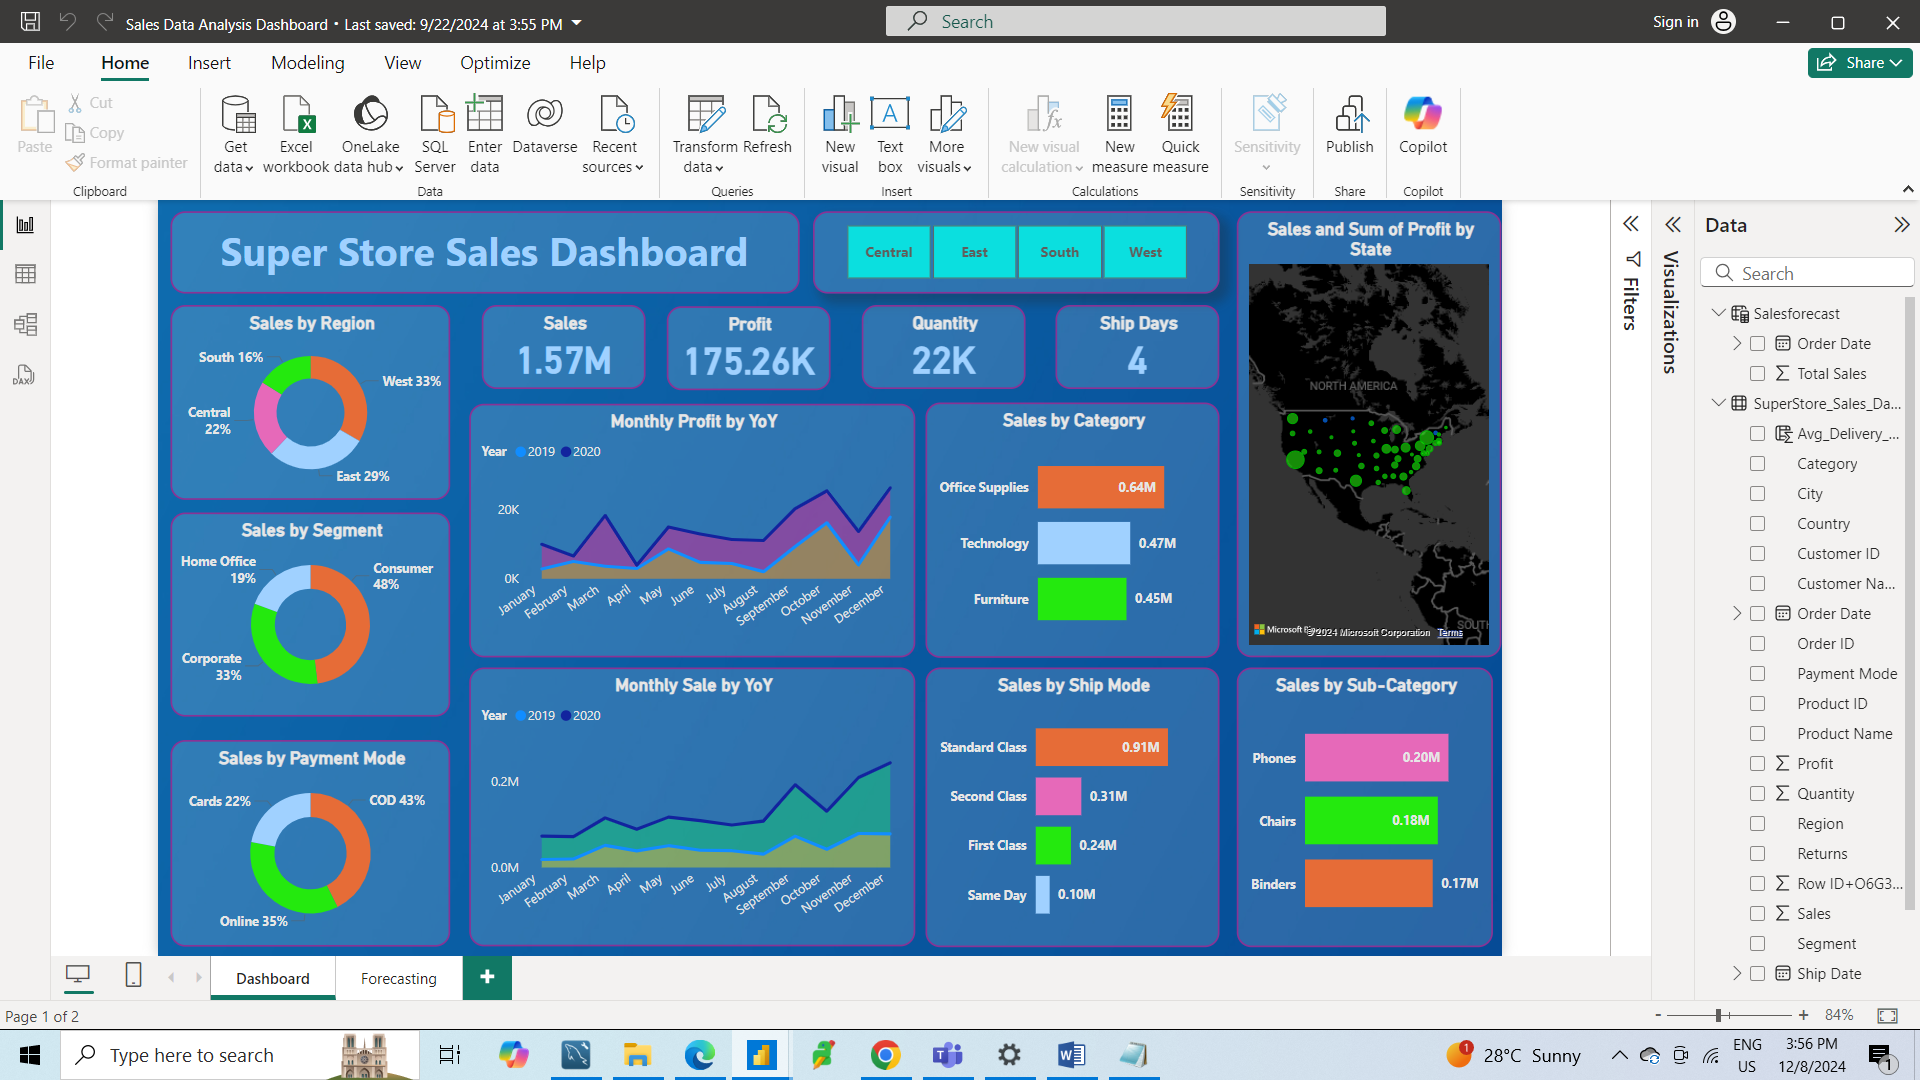

The dashboard page shown, as its layout file describes it:
{"tool":"powerbi","page":{"name":"Dashboard","canvas":[1280,720],"ordinal":0},"visuals":[{"type":"clusteredBarChart","title":"Sales by Category","fields":{"Category":["SuperStore_Sales_Dataset.Category"],"Y":["Sum(SuperStore_Sales_Dataset.Sales)"]},"box":[731,192.9,279.8,242.9],"z":0},{"type":"clusteredBarChart","title":"Sales by Ship Mode","fields":{"Category":["SuperStore_Sales_Dataset.Ship Mode","SuperStore_Sales_Dataset.Category"],"Y":["Sum(SuperStore_Sales_Dataset.Sales)"]},"box":[731,445.2,279.8,266.7],"z":1000},{"type":"clusteredBarChart","title":"Sales by Sub-Category","fields":{"Category":["SuperStore_Sales_Dataset.Sub-Category"],"Y":["Sum(SuperStore_Sales_Dataset.Sales)"]},"box":[1027.4,445.2,244,266.7],"z":2000},{"type":"stackedAreaChart","title":"Monthly Sale by YoY","fields":{"Y":["Sum(SuperStore_Sales_Dataset.Sales)"],"Category":["SuperStore_Sales_Dataset.Order Date.Variation.Date Hierarchy.Month"],"Series":["SuperStore_Sales_Dataset.Order Date.Variation.Date Hierarchy.Year"]},"box":[296.4,445.2,425,265.5],"z":3000},{"type":"stackedAreaChart","title":"Monthly Profit by YoY","fields":{"Y":["Sum(SuperStore_Sales_Dataset.Profit)"],"Category":["SuperStore_Sales_Dataset.Order Date.Variation.Date Hierarchy.Month"],"Series":["SuperStore_Sales_Dataset.Order Date.Variation.Date Hierarchy.Year"]},"box":[296.4,194,425,241.7],"z":4000},{"type":"map","title":"Sales and Sum of Profit by State","fields":{"Category":["SuperStore_Sales_Dataset.State"],"Size":["Sum(SuperStore_Sales_Dataset.Sales)"]},"box":[1027.4,10.7,252.4,425],"z":5000},{"type":"donutChart","title":"Sales by Segment","fields":{"Category":["SuperStore_Sales_Dataset.Segment"],"Y":["Sum(SuperStore_Sales_Dataset.Sales)"]},"box":[11.9,297.6,266.7,194],"z":6000},{"type":"donutChart","title":"Sales by Payment Mode","fields":{"Category":["SuperStore_Sales_Dataset.Payment Mode"],"Y":["Sum(SuperStore_Sales_Dataset.Sales)"]},"box":[11.9,514.3,266.7,196.4],"z":6001},{"type":"donutChart","title":"Sales by Region","fields":{"Category":["SuperStore_Sales_Dataset.Region"],"Y":["Sum(SuperStore_Sales_Dataset.Sales)"]},"box":[11.9,100,266.7,185.7],"z":6002},{"type":"slicer","fields":{"Values":["SuperStore_Sales_Dataset.Region"]},"box":[623.8,10.7,386.9,78.6],"z":6003},{"type":"textbox","box":[11.9,10.7,598.8,78.6],"z":6004},{"type":"card","title":"Sales","fields":{"Values":["Sum(SuperStore_Sales_Dataset.Sales)"]},"box":[308.3,100,156,79.8],"z":6005},{"type":"card","title":"Profit","fields":{"Values":["Sum(SuperStore_Sales_Dataset.Profit)"]},"box":[484.5,101.2,156,79.8],"z":6006},{"type":"card","title":"Quantity","fields":{"Values":["Sum(SuperStore_Sales_Dataset.Quantity)"]},"box":[670.2,100,156,79.8],"z":6007},{"type":"card","title":"Ship Days","fields":{"Values":["Avg(SuperStore_Sales_Dataset.Avg_Delivery_Time)"]},"box":[854.8,100,156,79.8],"z":6008}]}

Visuals, with their boxes on the page's 1280x720 design canvas (x1, y1, x2, y2). These are canvas units, not pixel positions in the 1920x1080 screenshot, which may show the page scaled, cropped or inside an application window:
"Sales by Category" clusteredBarChart: detection(731, 193, 1011, 436)
"Sales by Ship Mode" clusteredBarChart: detection(731, 445, 1011, 712)
"Sales by Sub-Category" clusteredBarChart: detection(1027, 445, 1271, 712)
"Monthly Sale by YoY" stackedAreaChart: detection(296, 445, 721, 711)
"Monthly Profit by YoY" stackedAreaChart: detection(296, 194, 721, 436)
"Sales and Sum of Profit by State" map: detection(1027, 11, 1280, 436)
"Sales by Segment" donutChart: detection(12, 298, 279, 492)
"Sales by Payment Mode" donutChart: detection(12, 514, 279, 711)
"Sales by Region" donutChart: detection(12, 100, 279, 286)
slicer - SuperStore_Sales_Dataset.Region: detection(624, 11, 1011, 89)
textbox: detection(12, 11, 611, 89)
"Sales" card: detection(308, 100, 464, 180)
"Profit" card: detection(484, 101, 640, 181)
"Quantity" card: detection(670, 100, 826, 180)
"Ship Days" card: detection(855, 100, 1011, 180)
